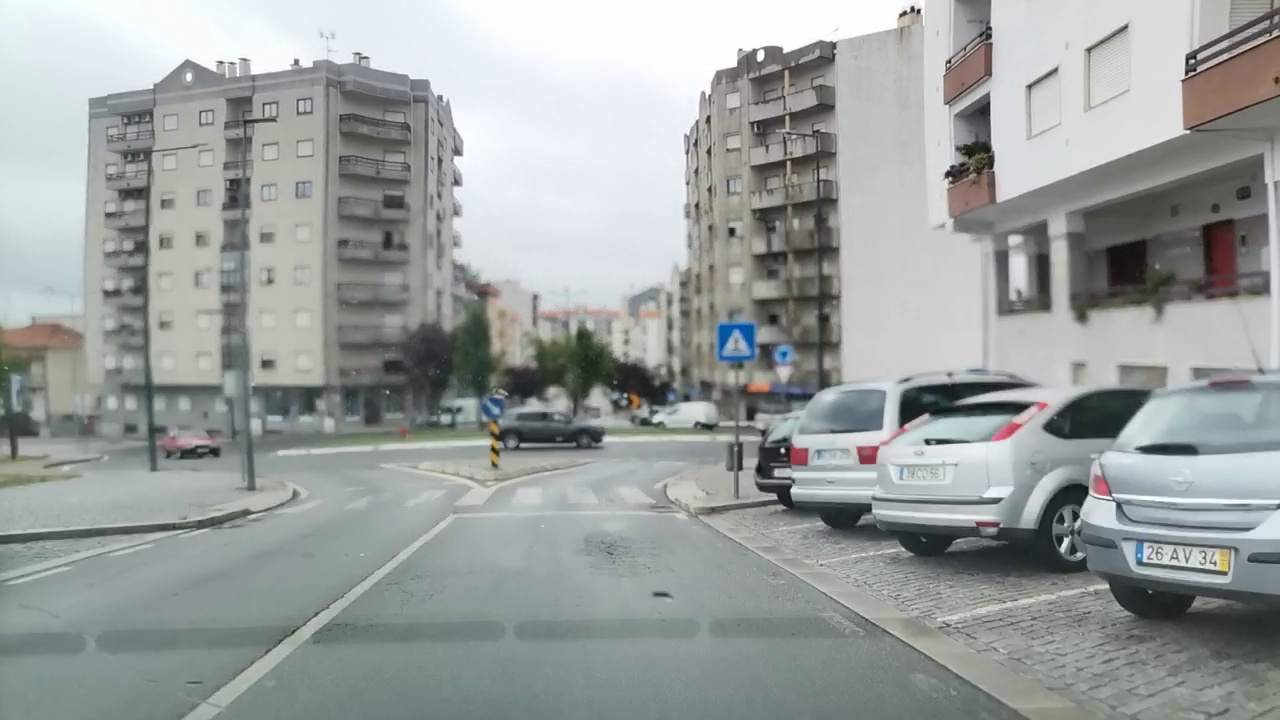Stairs: (282, 485, 659, 513)
